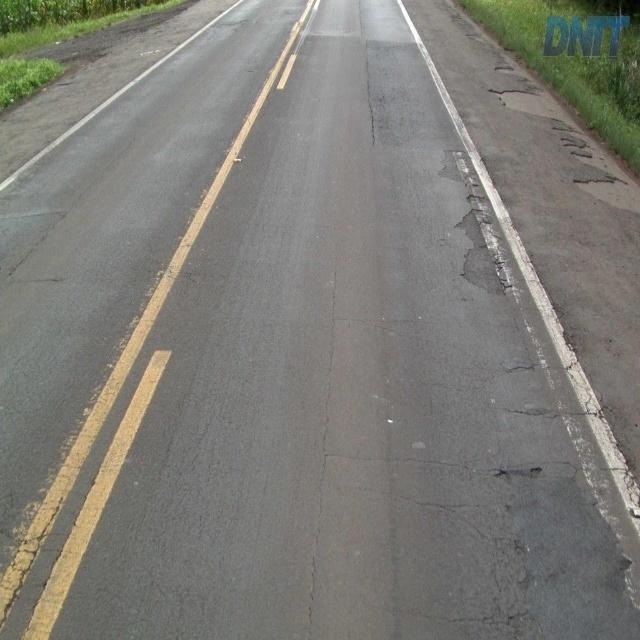pothole: (451, 188, 518, 301), (566, 139, 638, 220), (495, 82, 560, 125)
